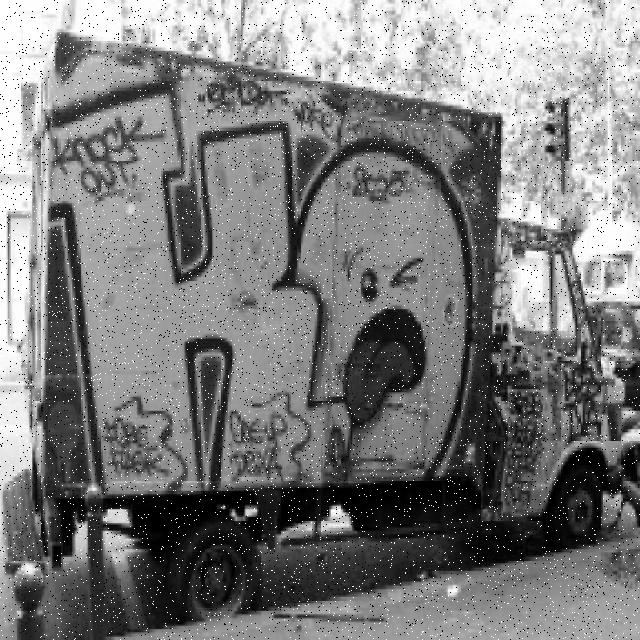Box Truck: (0, 32, 621, 640)
